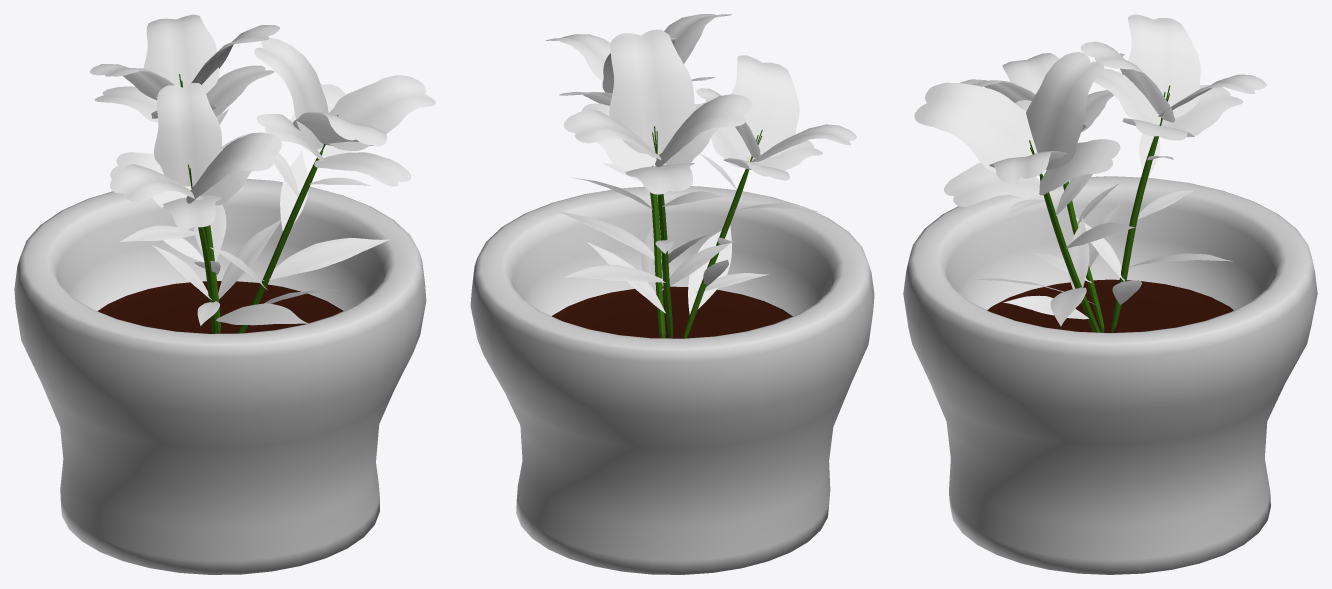
File: Lily.fbx
3 views of the same model, side by side, from view 1: azimuth 30°, elevation 25°; view 2: azimuth 150°, elevation 25°; view 3: azimuth 270°, elevation 25° (orthographic). The views are drawn at different scales.
Parts seen in each view (by area): view 1: Pot; view 2: Pot; view 3: Pot.
Part boxes in pixels (<box>): Pot: <box>14,14,435,574</box>; Pot: <box>470,14,874,574</box>; Pot: <box>903,14,1317,574</box>.
Size of the model in its own units: 0.7684 by 0.9751 by 0.7684.
